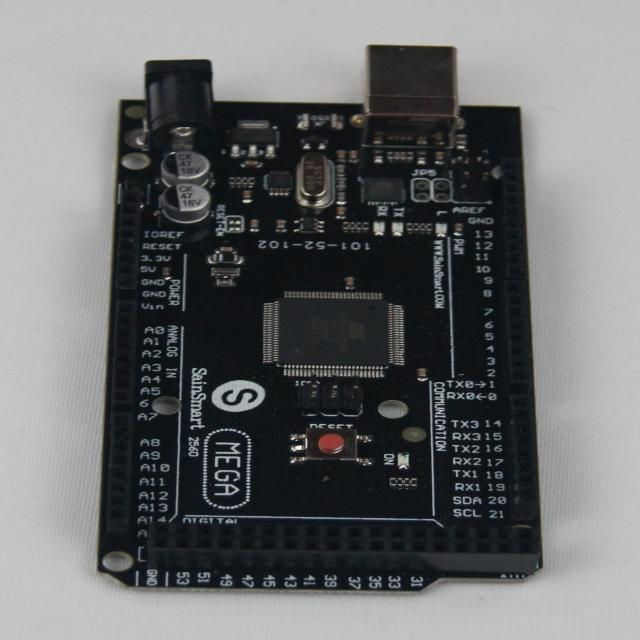Arduino Mega 2560 -Black-: (97, 46, 542, 592)
